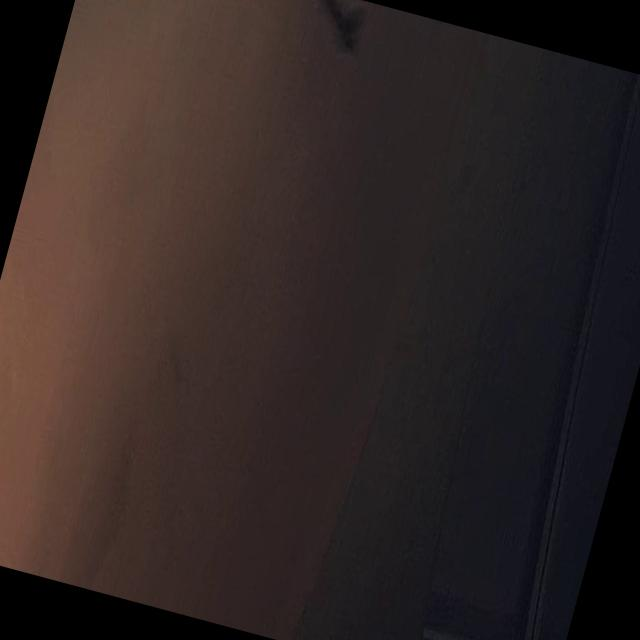Guns: (55, 0, 384, 147)
